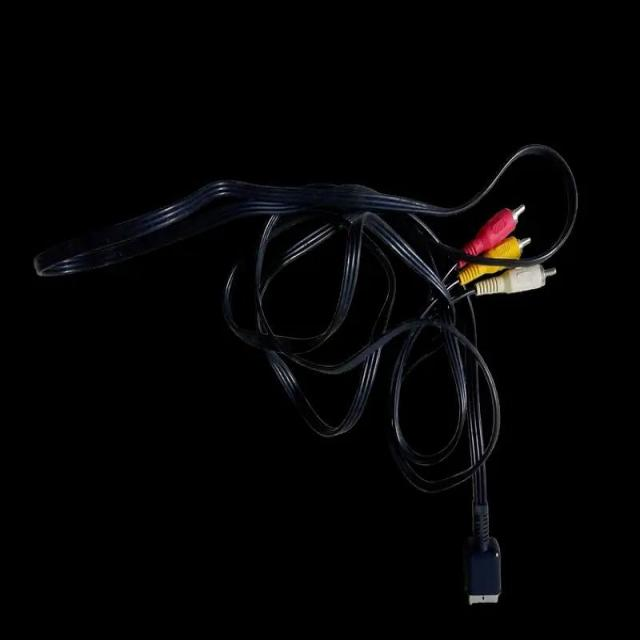electronic: (32, 138, 580, 608)
